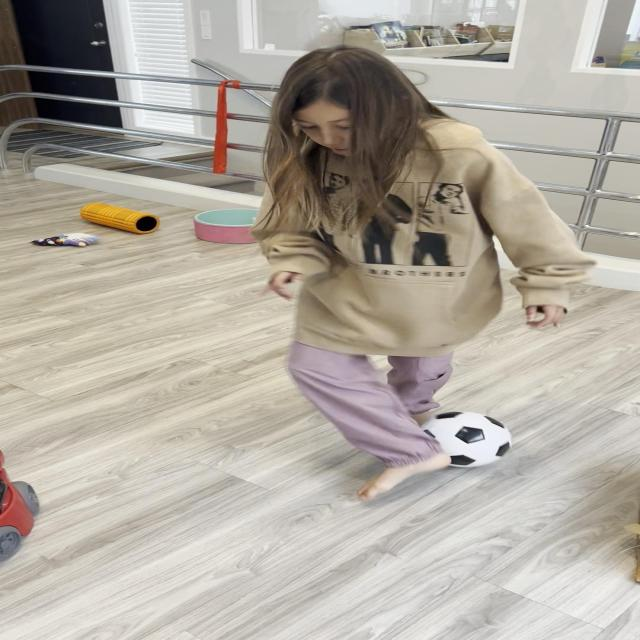Soccer Ball: (410, 411, 511, 467)
